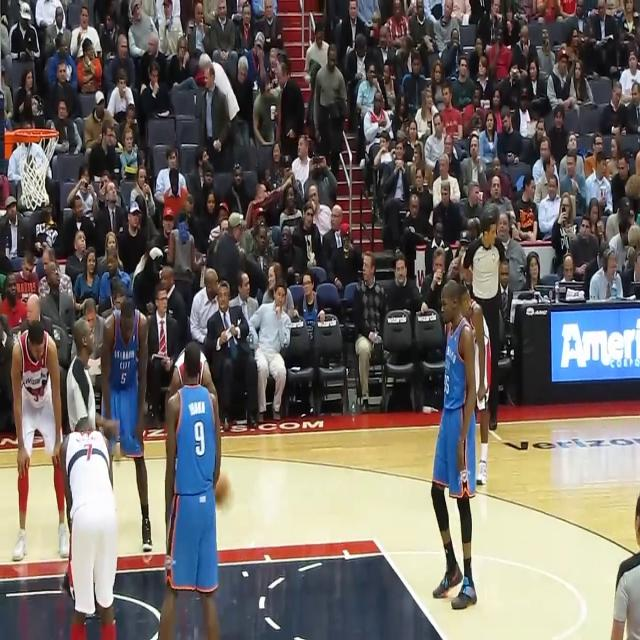ball: (215, 473, 233, 509)
